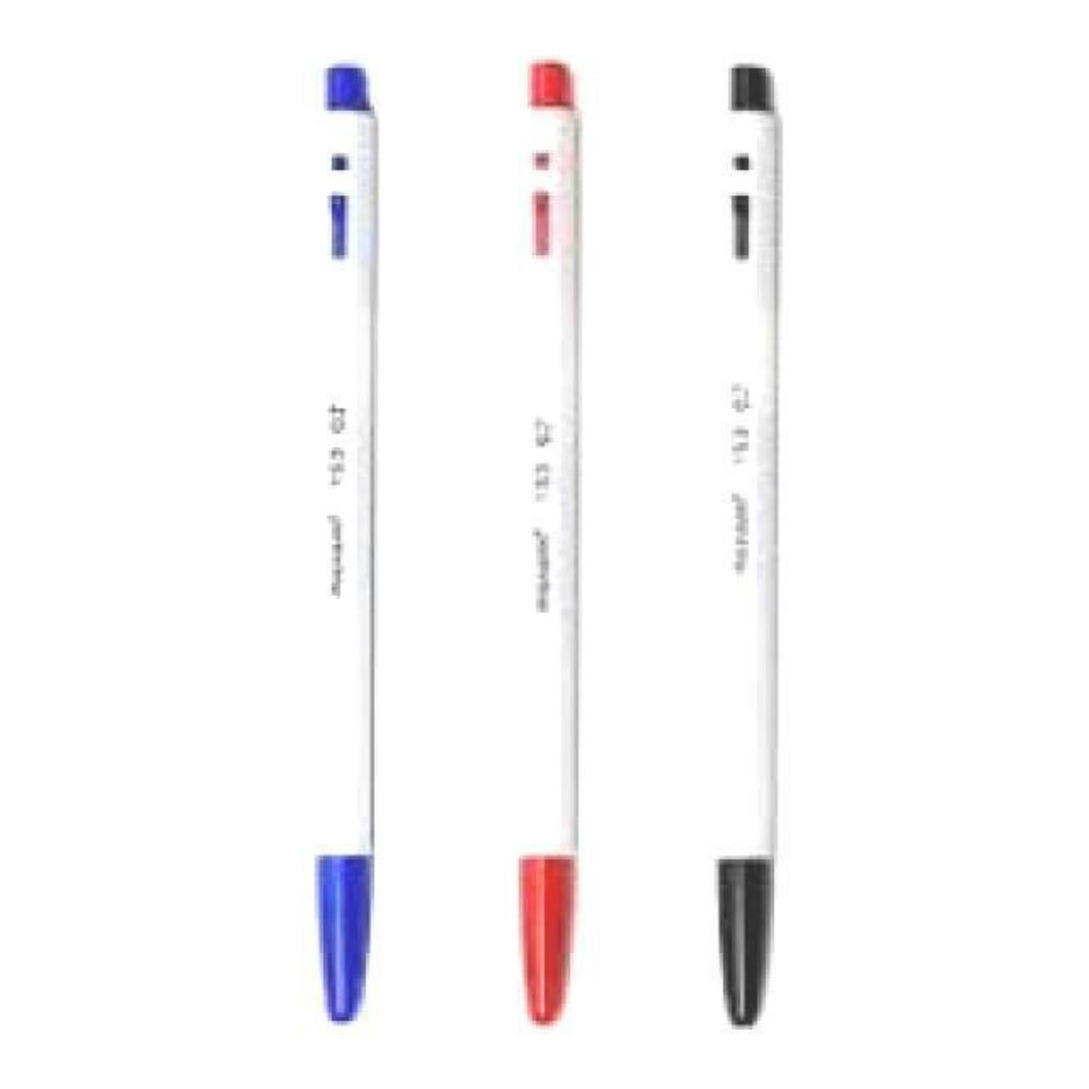pen: (715, 60, 788, 1052)
